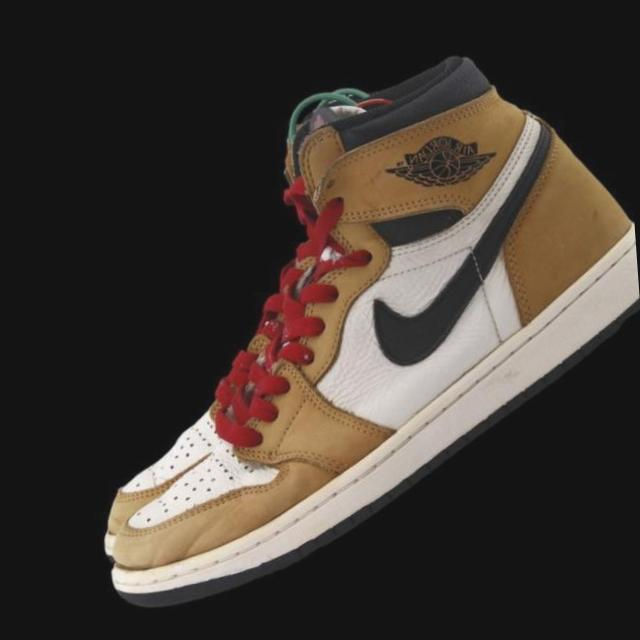nike_original_jordan: (0, 3, 640, 640), (0, 70, 525, 577)
